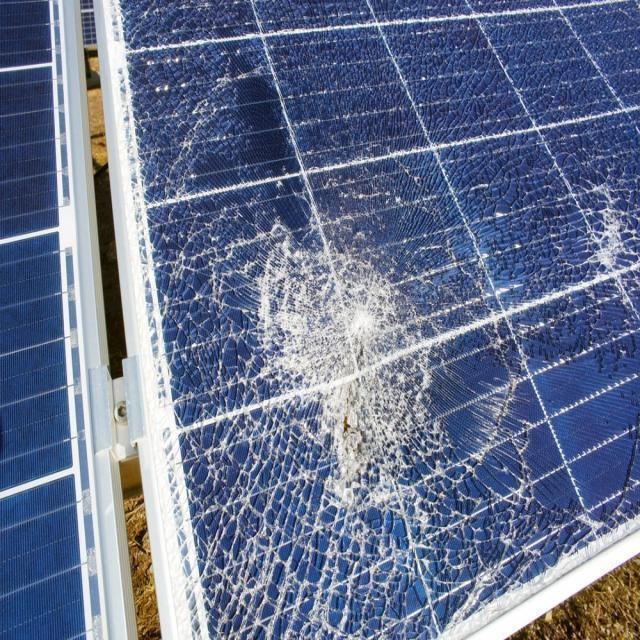Anomaly Solar Panel: (111, 0, 640, 640)
Structural Damage: (255, 218, 462, 536), (534, 159, 638, 307)
